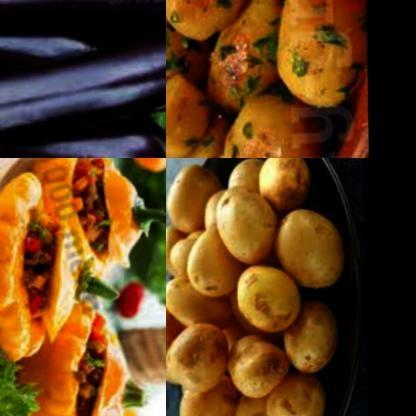eggplant: (0, 23, 166, 158), (0, 2, 124, 132), (0, 0, 166, 50)
pattypan squash: (8, 305, 97, 416), (0, 172, 47, 369), (40, 158, 112, 256), (46, 230, 101, 344), (84, 325, 150, 416), (106, 160, 158, 274)
potato: (166, 0, 367, 158), (271, 207, 354, 288), (213, 182, 280, 268), (274, 297, 344, 378), (232, 258, 302, 335), (181, 224, 244, 302), (223, 326, 288, 398), (166, 320, 227, 396), (166, 158, 223, 235), (166, 278, 230, 333), (254, 158, 311, 216), (265, 369, 333, 416), (175, 379, 233, 416), (226, 377, 280, 416), (219, 158, 269, 198), (166, 217, 191, 276)
tomato: (111, 279, 156, 324)
